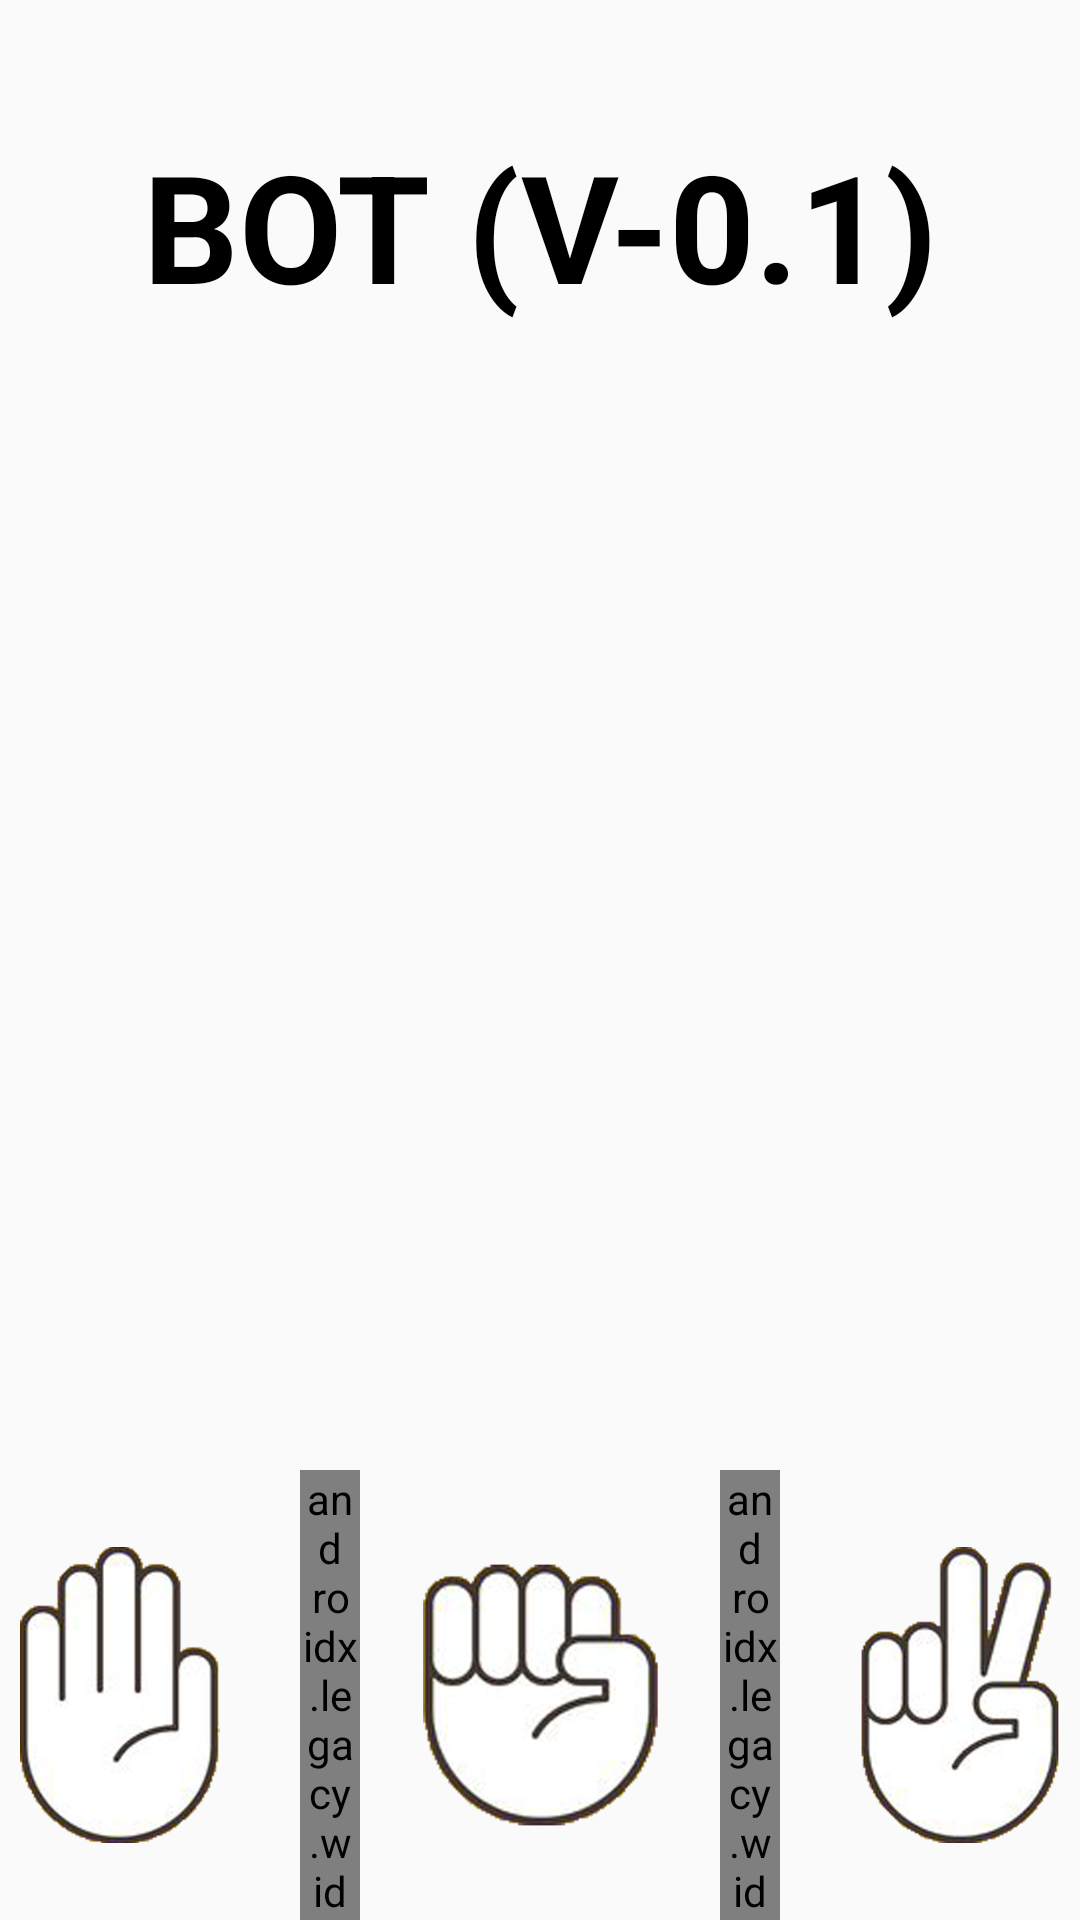

Named icons in this screenshot (1080×1920) and their bounding boxes, (x1, y1, x2, y2):
piedra: (423, 1564, 658, 1826)
